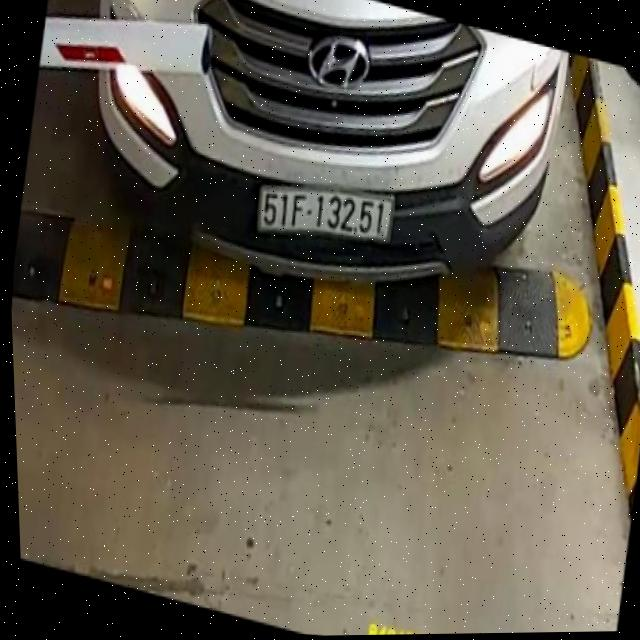car: (61, 0, 590, 313)
plate: (250, 173, 399, 248)
